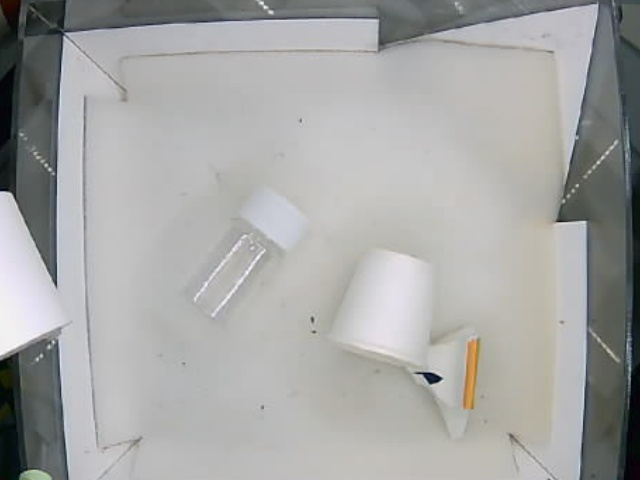Bottle: (178, 188, 307, 327)
China: (406, 333, 479, 437)
Cup: (326, 245, 435, 370)
